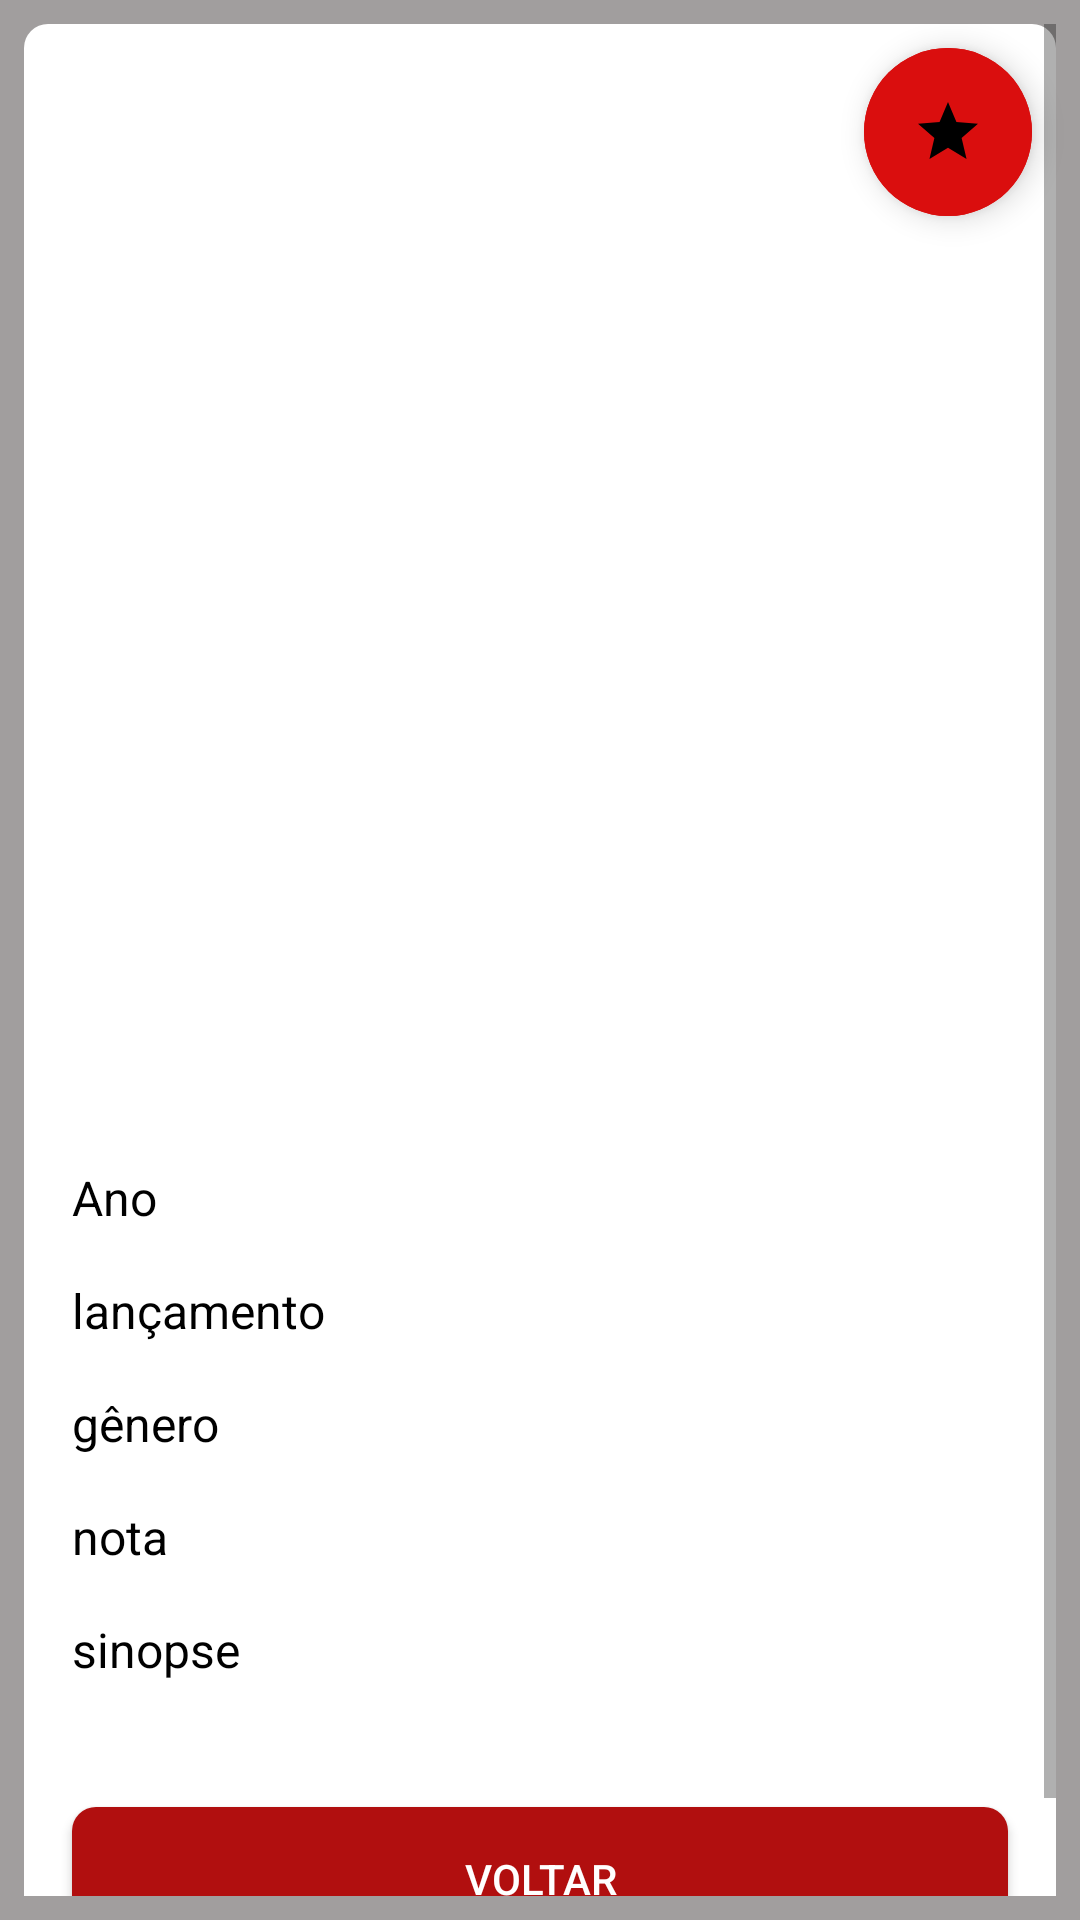

Named icons in this screenshot (1080×1920) and their bounding boxes, [x1,y1,x2,y2]:
favorite star: [864,48,1032,216]
